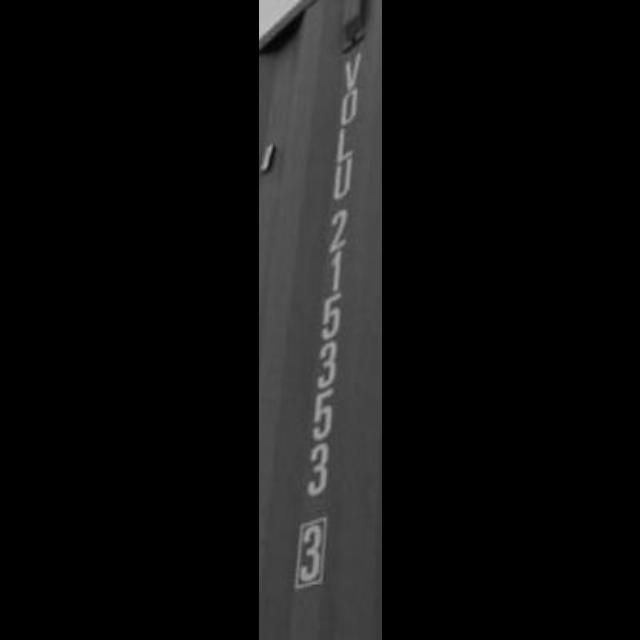1: (319, 248, 356, 296)
2: (321, 206, 357, 260)
3: (294, 516, 328, 590), (300, 439, 334, 503), (308, 336, 342, 394)
5: (316, 288, 348, 346), (306, 388, 338, 442)
l: (324, 119, 362, 167)
o: (331, 88, 364, 126)
u: (324, 158, 360, 202)
v: (334, 45, 366, 91)
